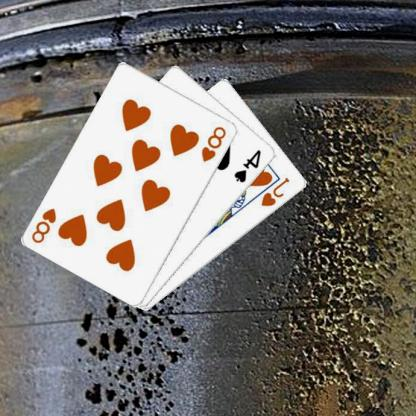4S: (233, 147, 265, 184)
8H: (30, 205, 60, 245), (201, 123, 230, 163)
JH: (260, 175, 293, 208)
